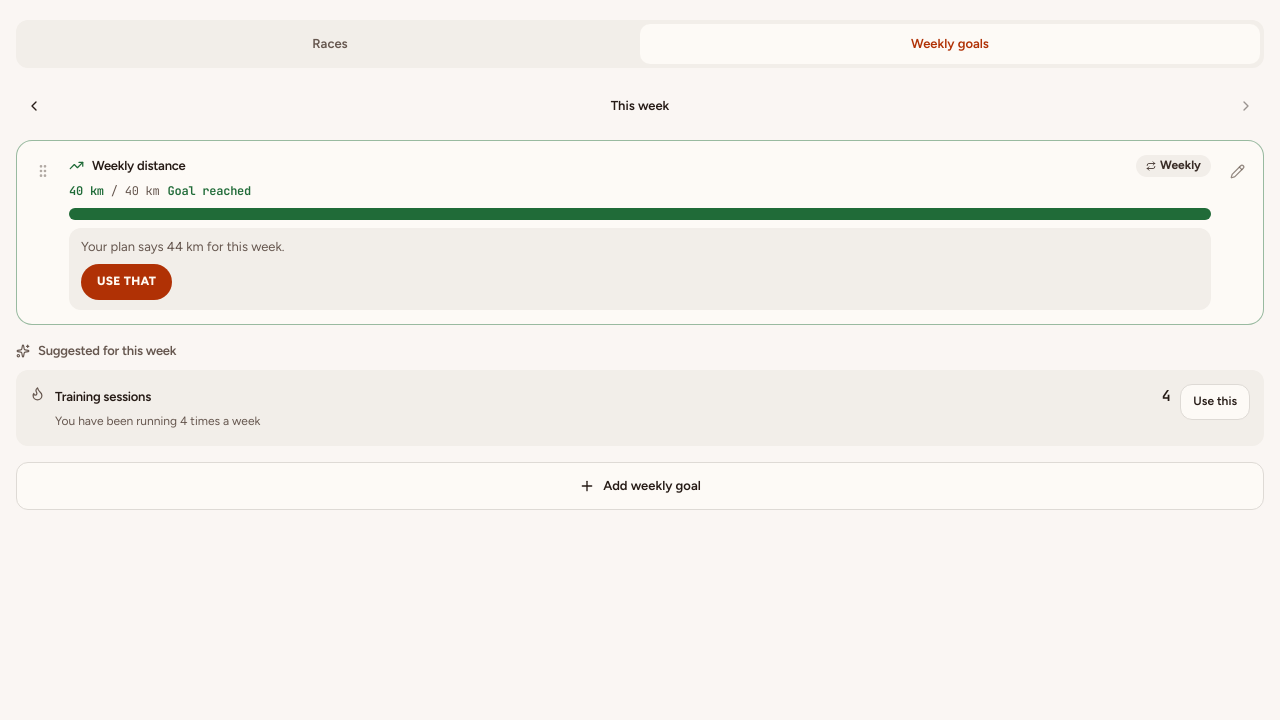
GoalsScreen — a recurring target's reach › does not reach back into weeks that predate it
The image size is (1280, 720).
Click the button named "previous week".
click(34, 106)  # box [16,88,52,124]
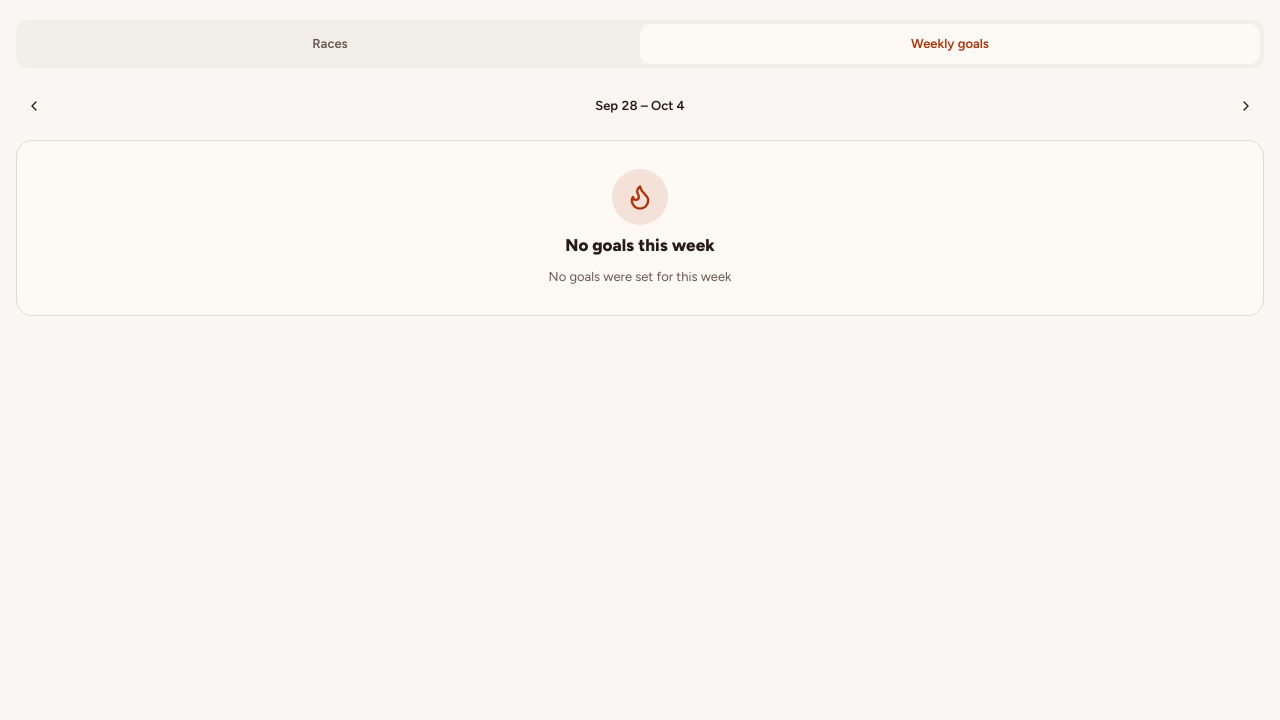
Result: no buttons "40 km" are shown
Result: the text "No goals this week" is shown at [565,233,715,258]
